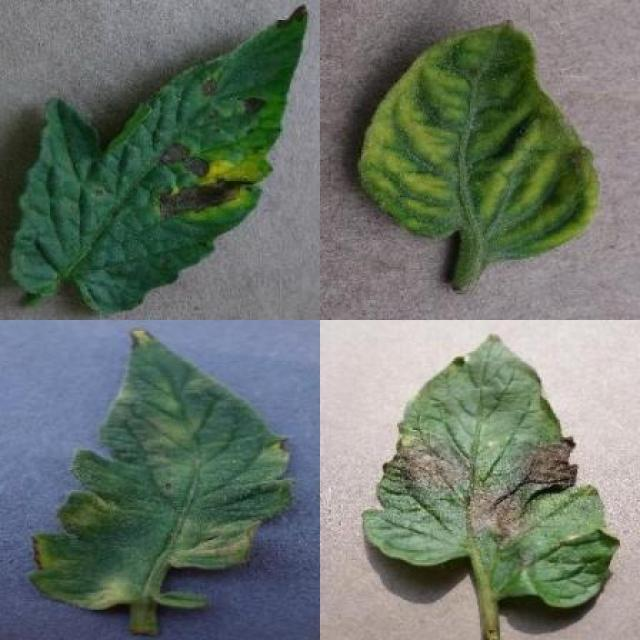Early Blight: (7, 3, 312, 317)
Late Blight: (364, 336, 622, 608)
Leaf Mold: (28, 328, 296, 615)
Yellow Leaf Curl Virus: (355, 22, 601, 262)
